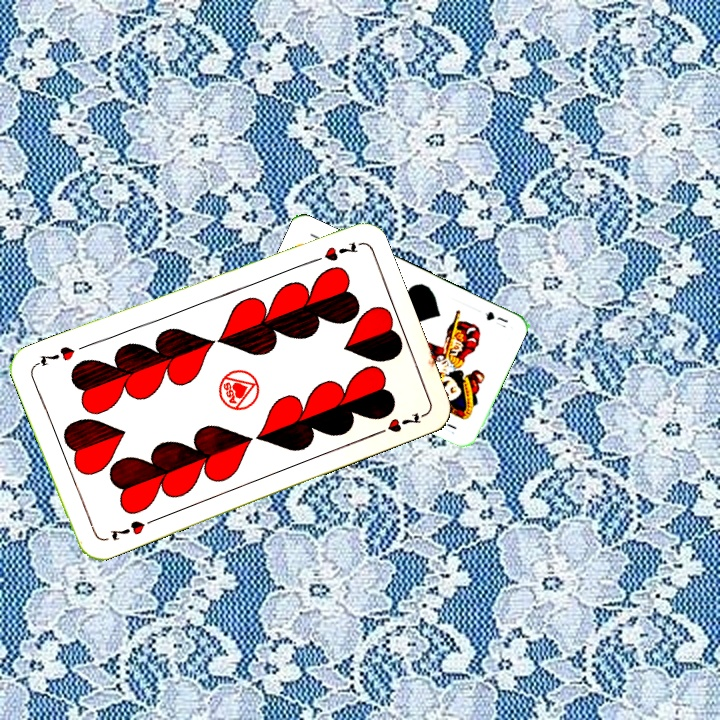GU: (481, 307, 511, 325)
H7: (304, 238, 360, 266), (106, 514, 158, 544)
